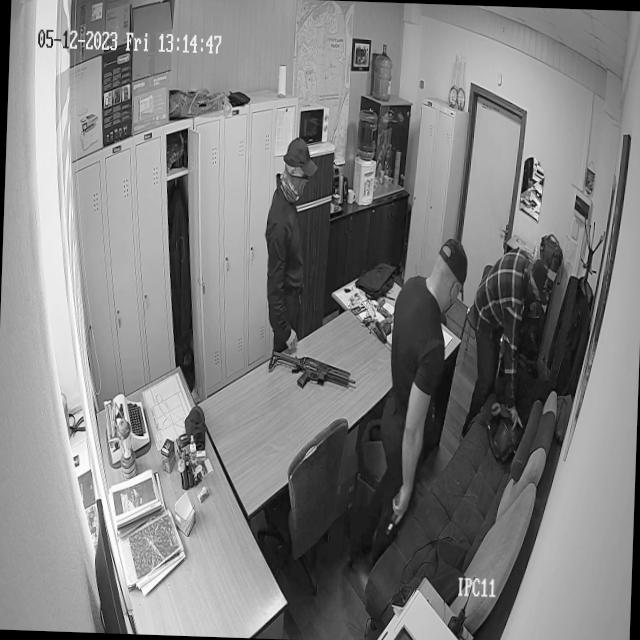gun: (266, 348, 358, 393), (386, 487, 408, 536)
person: (468, 248, 540, 427), (261, 138, 312, 346)
person with a gun: (382, 238, 466, 544)
